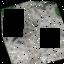Morning glory: (0, 0, 64, 53)
